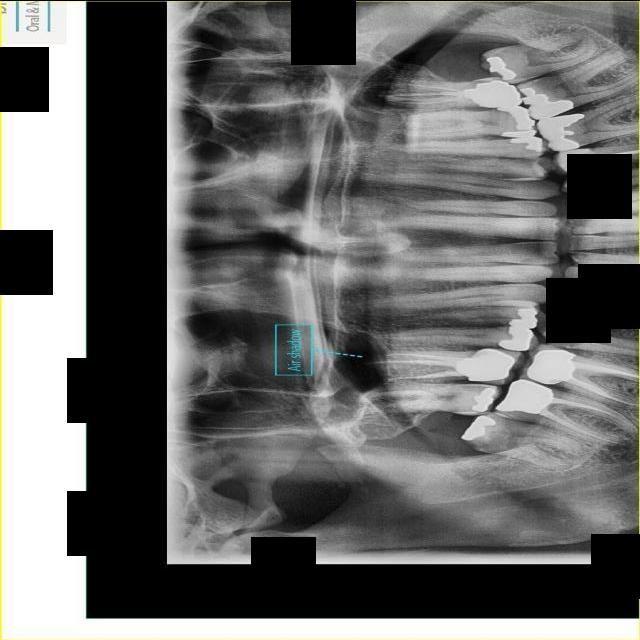71: (577, 149, 630, 164)
74: (539, 404, 616, 449), (563, 372, 635, 411), (551, 395, 626, 421), (369, 351, 465, 367), (572, 360, 640, 378), (382, 91, 470, 104), (385, 370, 464, 380), (395, 80, 464, 90)
NucleOSS Implant: (513, 84, 576, 129), (494, 375, 554, 416), (536, 111, 589, 154), (462, 77, 522, 110), (496, 93, 539, 135), (458, 410, 496, 446), (483, 51, 516, 85), (467, 384, 501, 416), (496, 323, 533, 352), (507, 132, 544, 152), (508, 306, 538, 327), (501, 129, 535, 138)
Sterngold Implant: (545, 329, 583, 348), (464, 437, 493, 450), (511, 155, 538, 167), (459, 382, 491, 391)
Straumann Implant: (553, 142, 598, 174)
Zimmer Implant: (518, 336, 576, 395), (465, 345, 524, 387)
